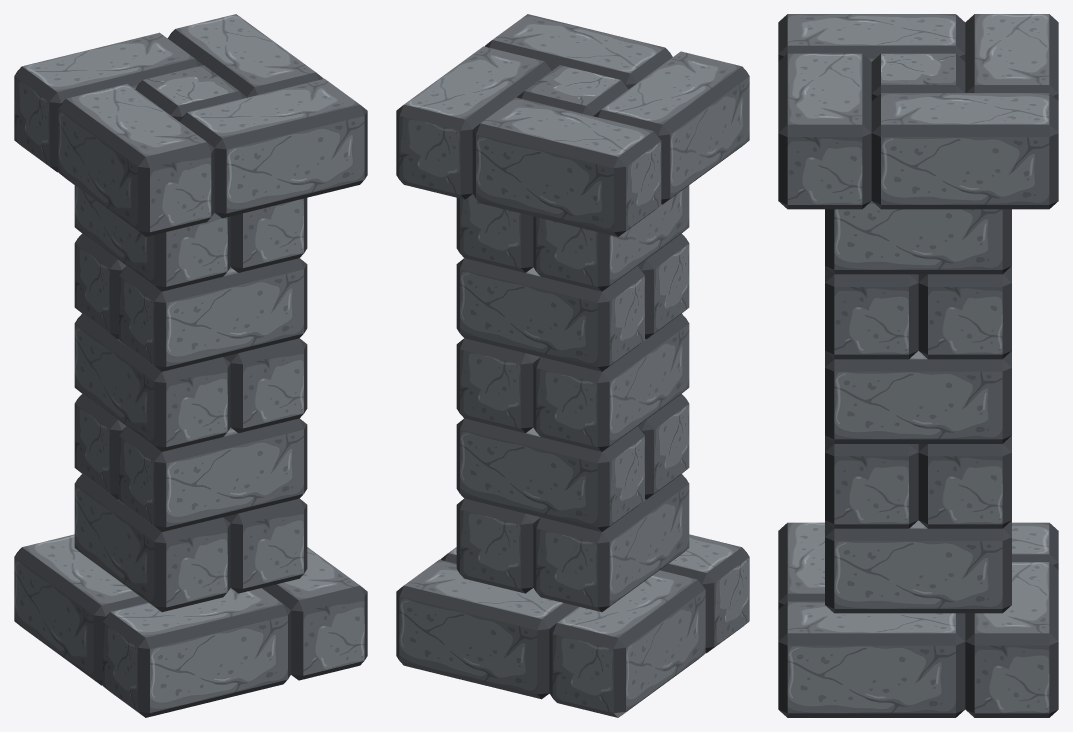
File: M_Colonna.fbx
The picture shows the model from 3 angles, left to right: view 1: azimuth 30°, elevation 25°; view 2: azimuth 150°, elevation 25°; view 3: azimuth 270°, elevation 25°; orthographic projection. The views are drawn at different scales.
Parts seen in each view (by area): view 1: Colonna; view 2: Colonna; view 3: Colonna.
Boxes of the visible parts, left/top/right/bottom form: Colonna: left=14, top=14, right=367, bottom=717; Colonna: left=396, top=14, right=749, bottom=717; Colonna: left=778, top=14, right=1058, bottom=717.
Size of the model in its own units: 3 by 7 by 3.
